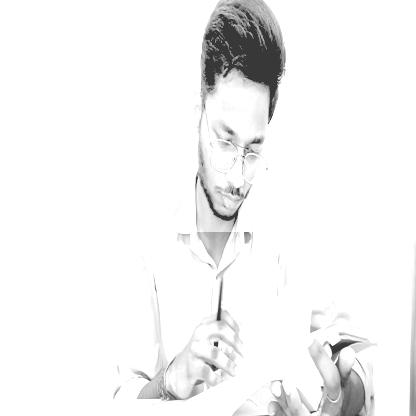Distracted: (193, 0, 284, 232)
